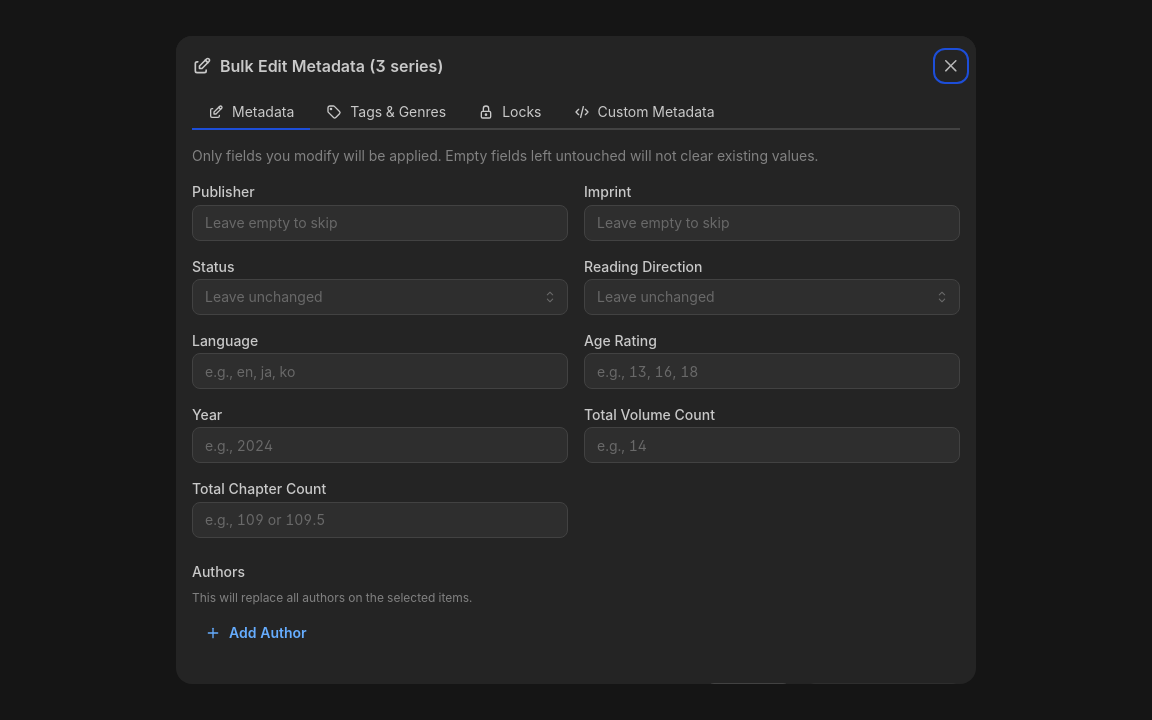
BulkMetadataEditModal › tags & genres tab › switches to tags tab and shows add/remove inputs
The image size is (1152, 720).
Click the tab "Tags & Genres" at (386, 113), box [310, 96, 462, 130]
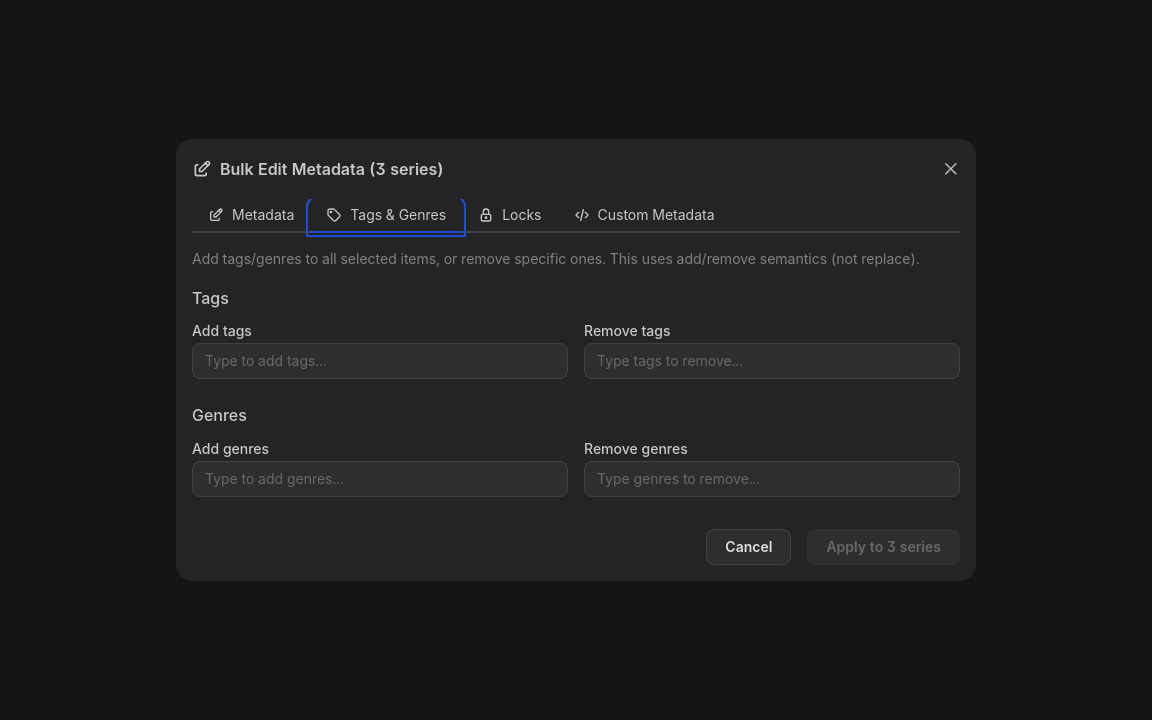
Now the text "Add tags" is shown, box [192, 320, 252, 342]
Now the text "Remove tags" is shown, box [584, 320, 670, 342]
Now the text "Add genres" is shown, box [192, 438, 269, 460]
